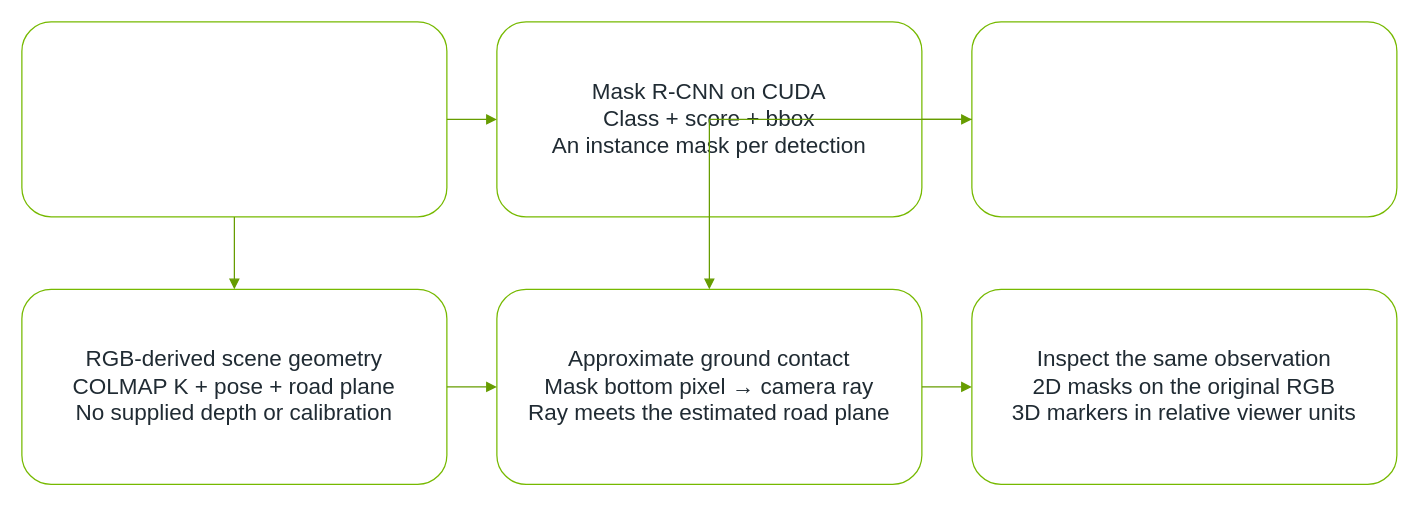
The diagram is 1419 pixels wide and 506 high, and some of its shapes have lost their labels. The centre of each missing label's shape, as x and y in pixels:
Actual 2D model outputs bbox [x0,y0,x1,y1] Mask → compressed binary raster: [1184,119]
RGB camera frames uint8[H,W,3] Real camera pixels only: [234,119]
